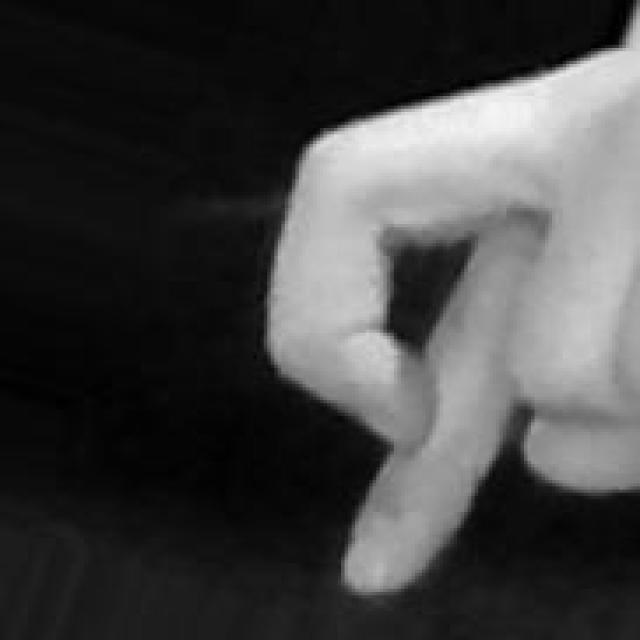P: (263, 41, 640, 595)
